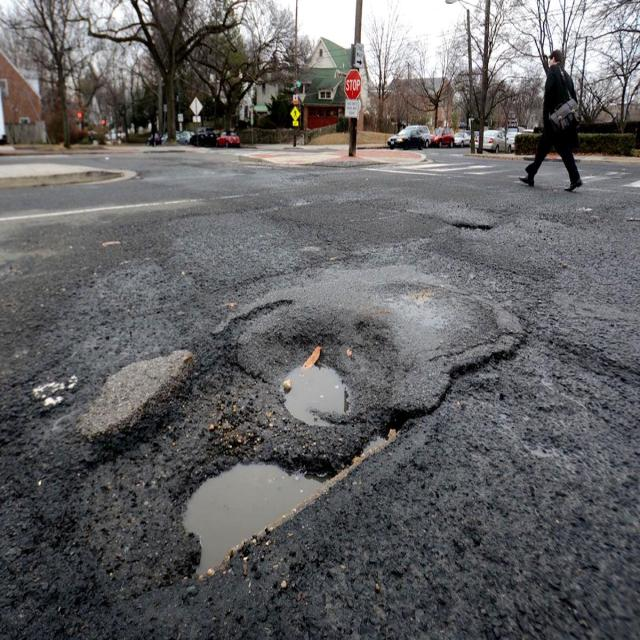pothole: (174, 453, 320, 575), (280, 357, 354, 428), (455, 217, 494, 236)
